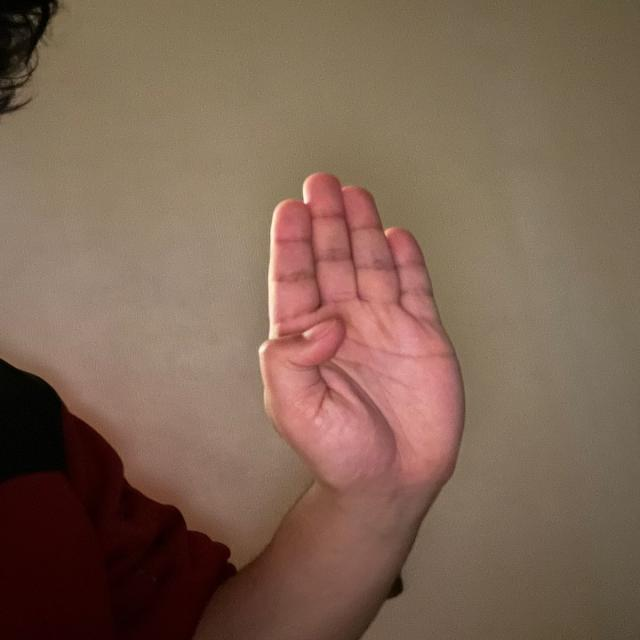B: (251, 164, 472, 488)
